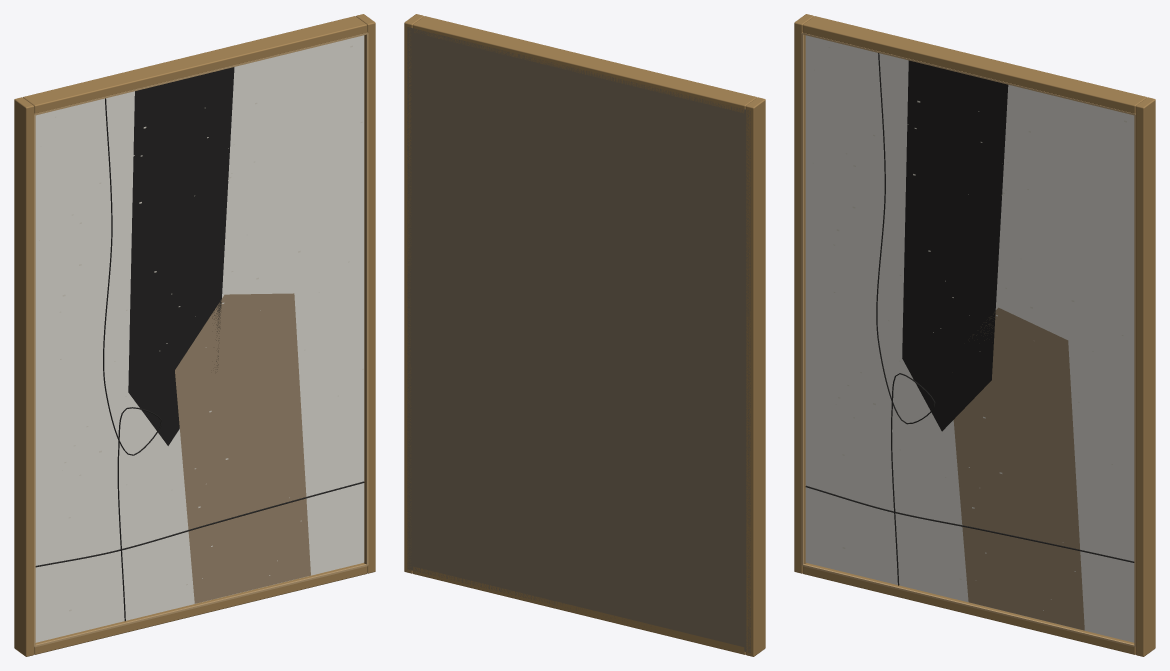
File: kairne-abstract-2.glb
The picture shows the model from 3 angles, left to right: view 1: azimuth 30°, elevation 25°; view 2: azimuth 150°, elevation 25°; view 3: azimuth 330°, elevation 25°; orthographic projection.
Visible parts, largest first — view 1: Ivory canvas, Warm taupe abstract paint, Abstract charcoal paint, Light oak frame, Frame bevel highlight; view 2: Frame backing, Light oak frame; view 3: Ivory canvas, Abstract charcoal paint, Warm taupe abstract paint, Light oak frame, Frame bevel highlight.
Boxes of the visible parts, left/top/right/bottom form: Ivory canvas: left=35, top=35, right=364, bottom=642; Warm taupe abstract paint: left=175, top=293, right=310, bottom=603; Abstract charcoal paint: left=35, top=67, right=364, bottom=621; Light oak frame: left=14, top=14, right=375, bottom=656; Frame bevel highlight: left=34, top=32, right=368, bottom=647; Frame backing: left=407, top=27, right=750, bottom=652; Light oak frame: left=404, top=14, right=765, bottom=656; Ivory canvas: left=805, top=35, right=1134, bottom=642; Abstract charcoal paint: left=805, top=53, right=1134, bottom=585; Warm taupe abstract paint: left=953, top=307, right=1084, bottom=630; Light oak frame: left=794, top=14, right=1155, bottom=656; Frame bevel highlight: left=801, top=32, right=1135, bottom=647.
Bounding box in the file's own units: 0.4064 × 0.6096 × 0.025.
